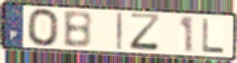1: (178, 14, 195, 55)
B: (62, 10, 94, 50)
I: (116, 11, 124, 52)
L: (201, 17, 226, 55)
O: (26, 7, 61, 49)
Z: (129, 12, 163, 54)
